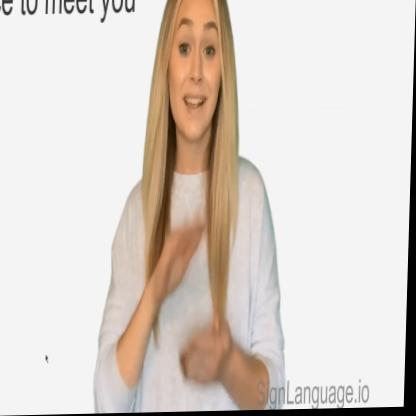NiceToMeetYou: (141, 200, 239, 396)
